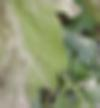Tomato leaf late blight: (0, 0, 79, 108)
